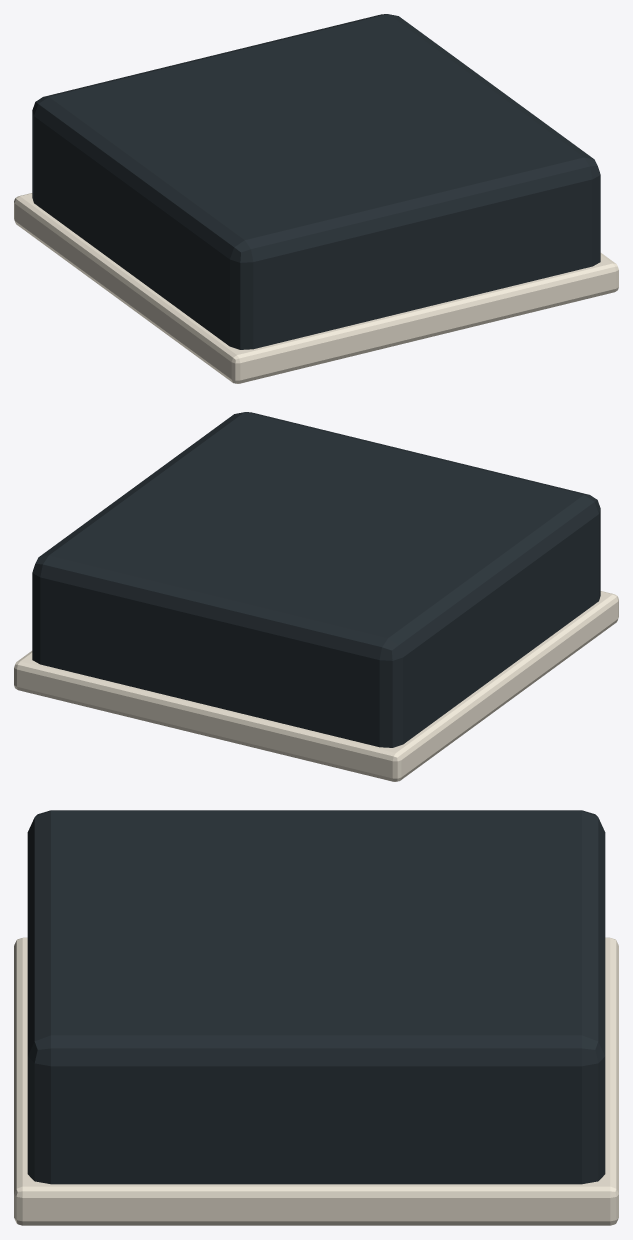
File: few-moves-pieces.fbx
3 views of the same model, one above another, from view 1: azimuth 30°, elevation 25°; view 2: azimuth 150°, elevation 25°; view 3: azimuth 270°, elevation 25° (orthographic). The views are drawn at different scales.
Visible parts, largest first — view 1: WallTile, FloorTile; view 2: WallTile, FloorTile; view 3: WallTile, FloorTile.
Boxes of the visible parts, x1,y1,x2,y2 form: WallTile: [32, 14, 600, 349]; FloorTile: [14, 193, 618, 383]; WallTile: [32, 412, 600, 747]; FloorTile: [14, 591, 618, 781]; WallTile: [27, 810, 605, 1184]; FloorTile: [14, 937, 618, 1225].
Bounding box in the file's own units: 98.5 × 32 × 98.5.
